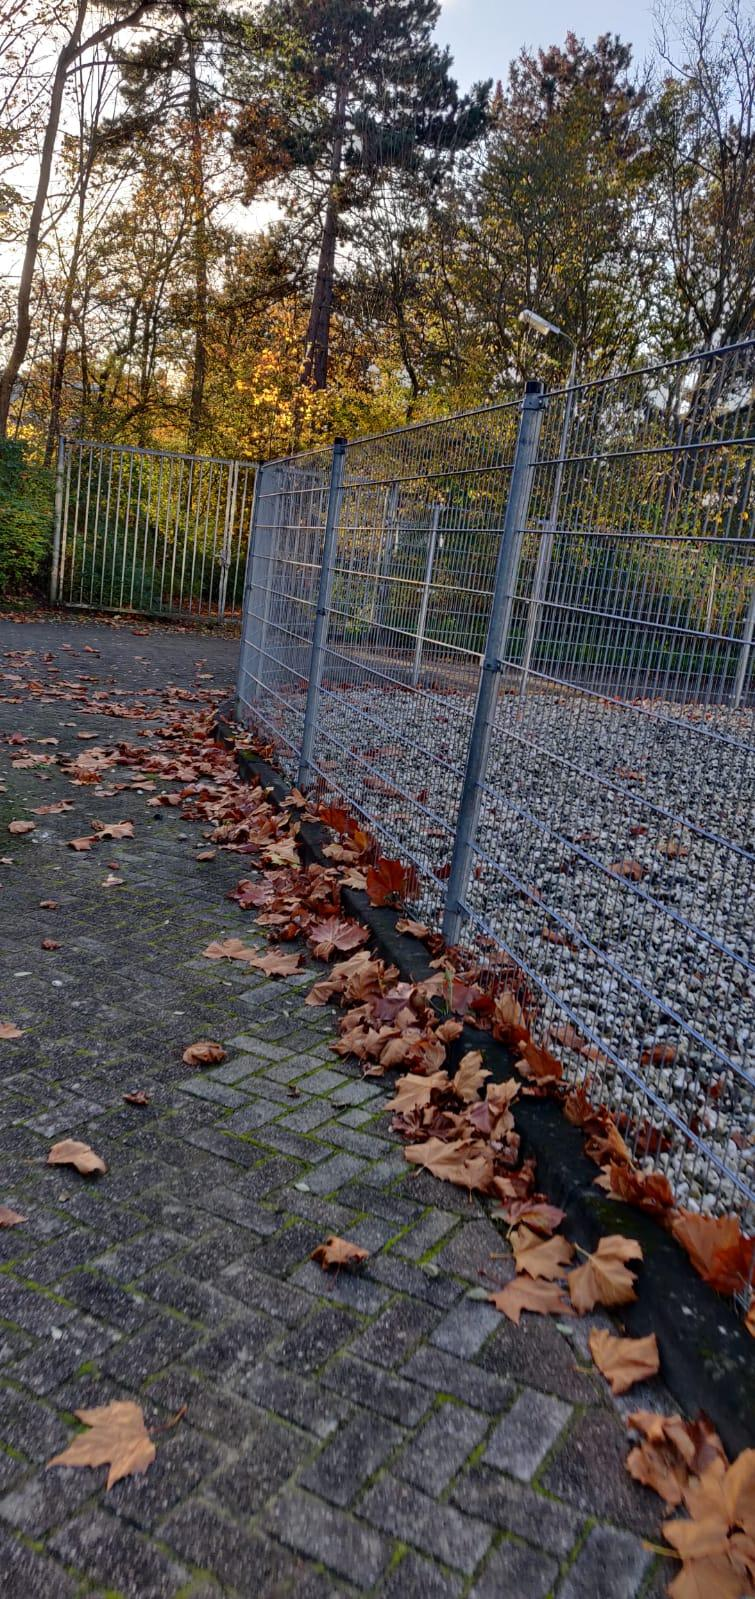obstacle: (0, 383, 755, 1355)
